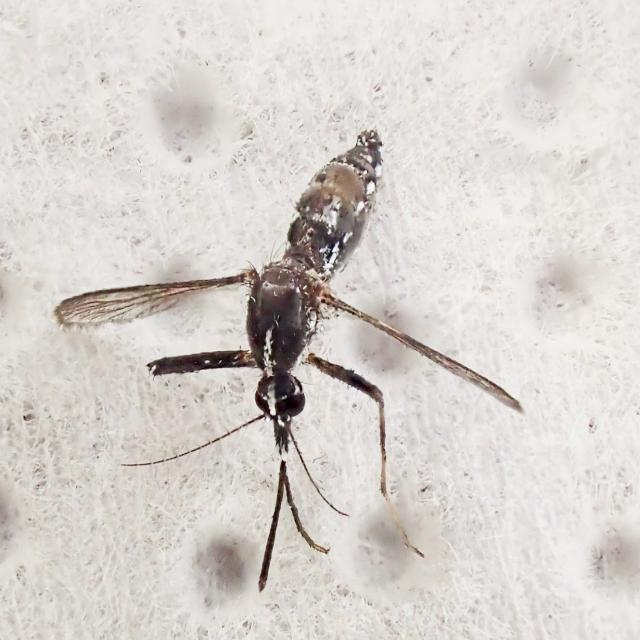albopictus: (72, 118, 510, 587)
